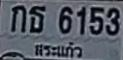1: (76, 6, 85, 34)
3: (105, 7, 119, 34)
5: (89, 6, 103, 34)
6: (58, 5, 72, 33)
A01: (10, 4, 25, 32)
A24: (29, 5, 45, 32)
SKW: (33, 40, 84, 59)
